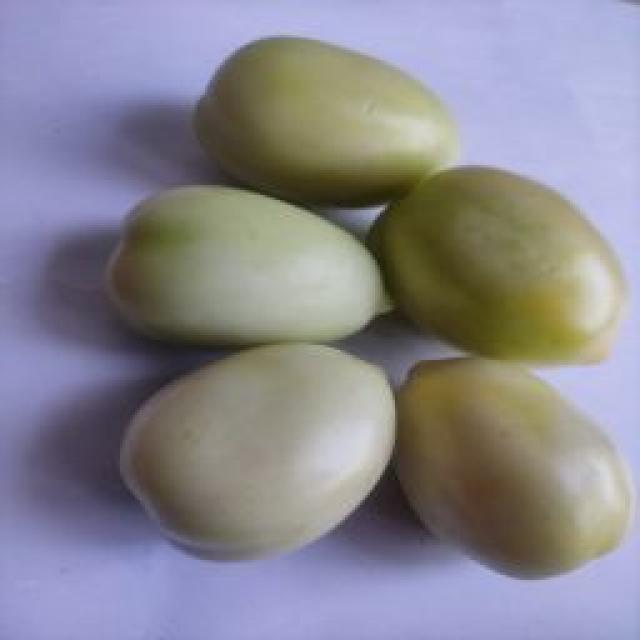tomato: (120, 343, 397, 564), (392, 354, 630, 582), (366, 164, 622, 365), (110, 184, 392, 346), (194, 34, 461, 200)
